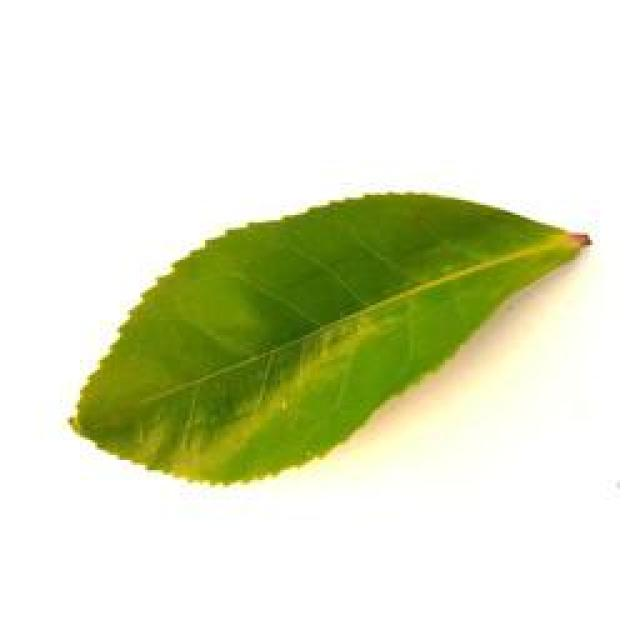Healthy: (57, 174, 599, 491)
